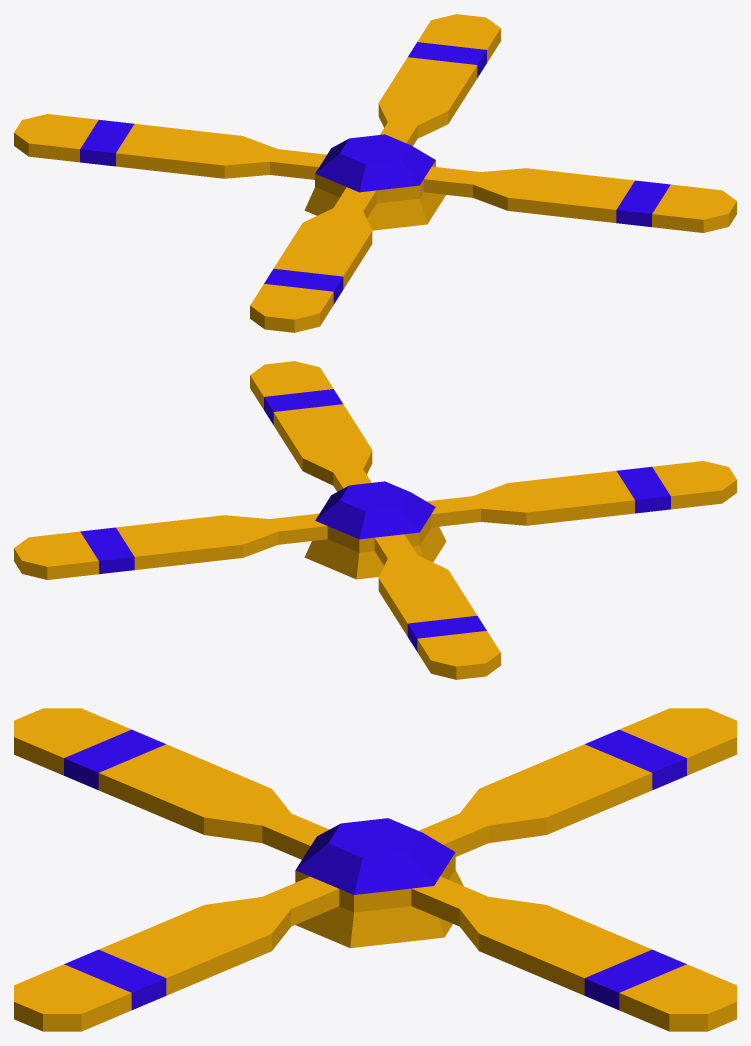
Rendered from Propeller2.obj.
3 views of the same model, one above another, from view 1: azimuth 30°, elevation 25°; view 2: azimuth 150°, elevation 25°; view 3: azimuth 270°, elevation 25° (orthographic). The views are drawn at different scales.
Visible parts, largest first — view 1: propeller_quad; view 2: propeller_quad; view 3: propeller_quad.
Part boxes in pixels (<box>): propeller_quad: <box>14,14,736,332</box>; propeller_quad: <box>14,361,736,679</box>; propeller_quad: <box>14,708,736,1031</box>.
Size of the model in its own units: 1.1 by 0.1186 by 1.1.
